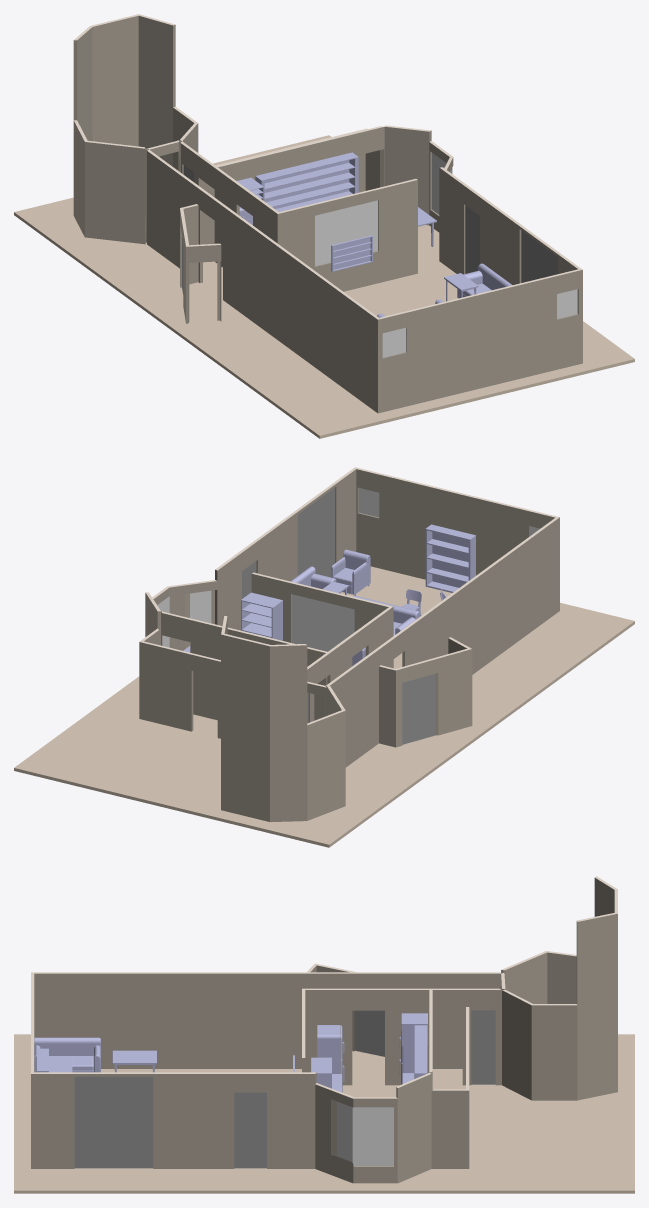
File: Sep18at10-53AM-poly.fbx
3 renders of one model, top to bottom at view 1: azimuth 30°, elevation 25°; view 2: azimuth 150°, elevation 25°; view 3: azimuth 270°, elevation 25°, orthographic.
Visible parts, largest first — view 1: wall_20.wall_19.wall_18.wall_17.wall_16.wall_15.wall_14.wall, floor_0, object_1.object_2.object_3.object_4.object_5.object_6.object, window_1.window_3.window_4.window_5.window_2.window_0, wall_22, door_2.door_4.door_1.door_0.door_3; view 2: wall_20.wall_19.wall_18.wall_17.wall_16.wall_15.wall_14.wall, floor_0, object_1.object_2.object_3.object_4.object_5.object_6.object, door_2.door_4.door_1.door_0.door_3, window_1.window_3.window_4.window_5.window_2.window_0, wall_22; view 3: wall_20.wall_19.wall_18.wall_17.wall_16.wall_15.wall_14.wall, floor_0, door_2.door_4.door_1.door_0.door_3, object_1.object_2.object_3.object_4.object_5.object_6.object, wall_22, window_1.window_3.window_4.window_5.window_2.window_0.
Part boxes in pixels (x1,y1,x2,y2): wall_20.wall_19.wall_18.wall_17.wall_16.wall_15.wall_14.wall: (73, 15, 582, 413); floor_0: (14, 135, 634, 438); object_1.object_2.object_3.object_4.object_5.object_6.object: (237, 152, 512, 317); window_1.window_3.window_4.window_5.window_2.window_0: (315, 153, 577, 357); wall_22: (74, 14, 582, 319); door_2.door_4.door_1.door_0.door_3: (182, 165, 558, 294); wall_20.wall_19.wall_18.wall_17.wall_16.wall_15.wall_14.wall: (139, 469, 559, 822); floor_0: (14, 566, 634, 847); object_1.object_2.object_3.object_4.object_5.object_6.object: (183, 524, 475, 665); door_2.door_4.door_1.door_0.door_3: (242, 488, 435, 744); window_1.window_3.window_4.window_5.window_2.window_0: (157, 488, 539, 651); wall_22: (139, 467, 559, 725); wall_20.wall_19.wall_18.wall_17.wall_16.wall_15.wall_14.wall: (31, 878, 617, 1183); floor_0: (14, 1034, 634, 1193); door_2.door_4.door_1.door_0.door_3: (74, 1010, 495, 1168); object_1.object_2.object_3.object_4.object_5.object_6.object: (34, 1013, 427, 1092); wall_22: (31, 876, 617, 1098); window_1.window_3.window_4.window_5.window_2.window_0: (336, 1101, 393, 1165).
Size of the model in its own units: 10.85 by 5.88 by 18.23.
